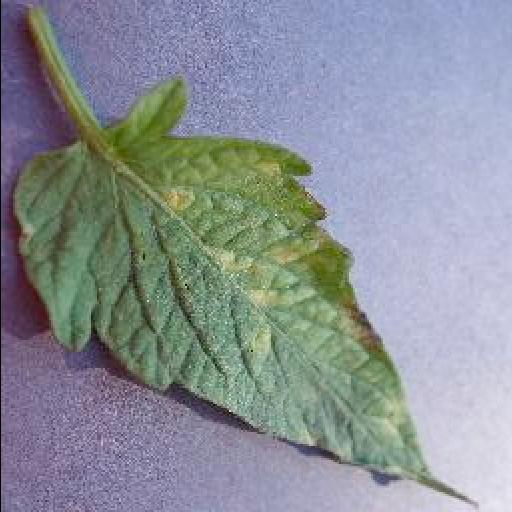disease_tomato: (4, 82, 432, 479)
